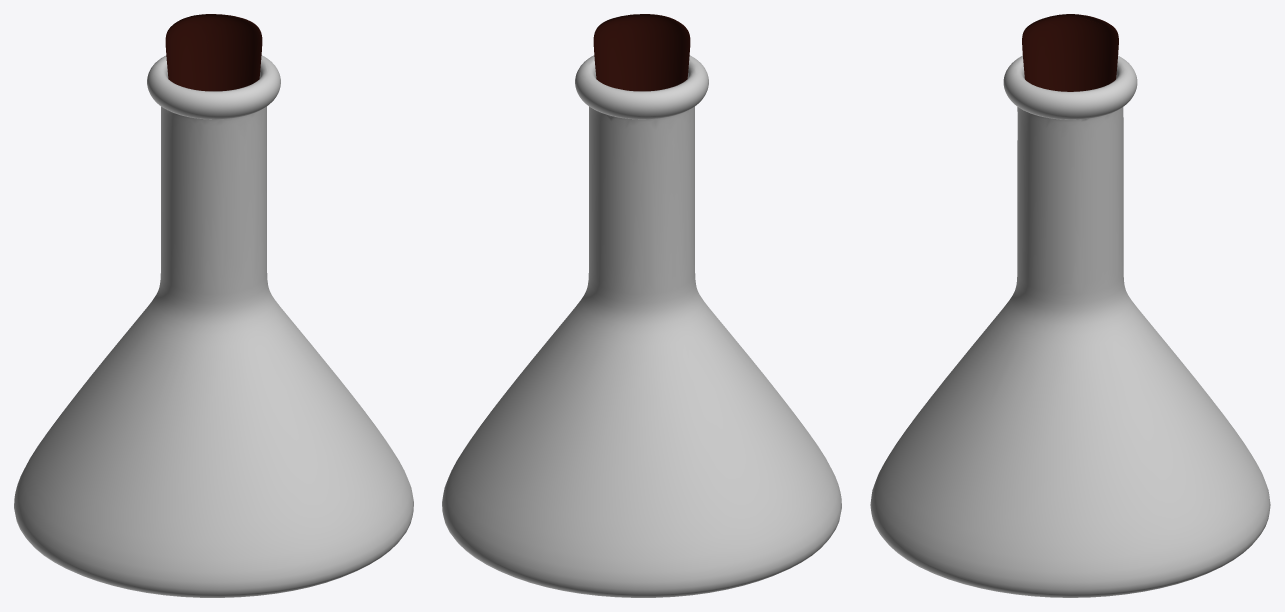
The model's file is lab.glb.
The picture shows the model from 3 angles, left to right: view 1: azimuth 30°, elevation 25°; view 2: azimuth 150°, elevation 25°; view 3: azimuth 270°, elevation 25°; orthographic projection.
Parts seen in each view (by area): view 1: Chemestry-tube; view 2: Chemestry-tube; view 3: Chemestry-tube.
Boxes of the visible parts, <box> form: Chemestry-tube: <box>14,14,413,597</box>; Chemestry-tube: <box>442,14,841,597</box>; Chemestry-tube: <box>870,14,1270,597</box>.
Bounding box in the file's own units: 1.41 × 1.92 × 1.41.
